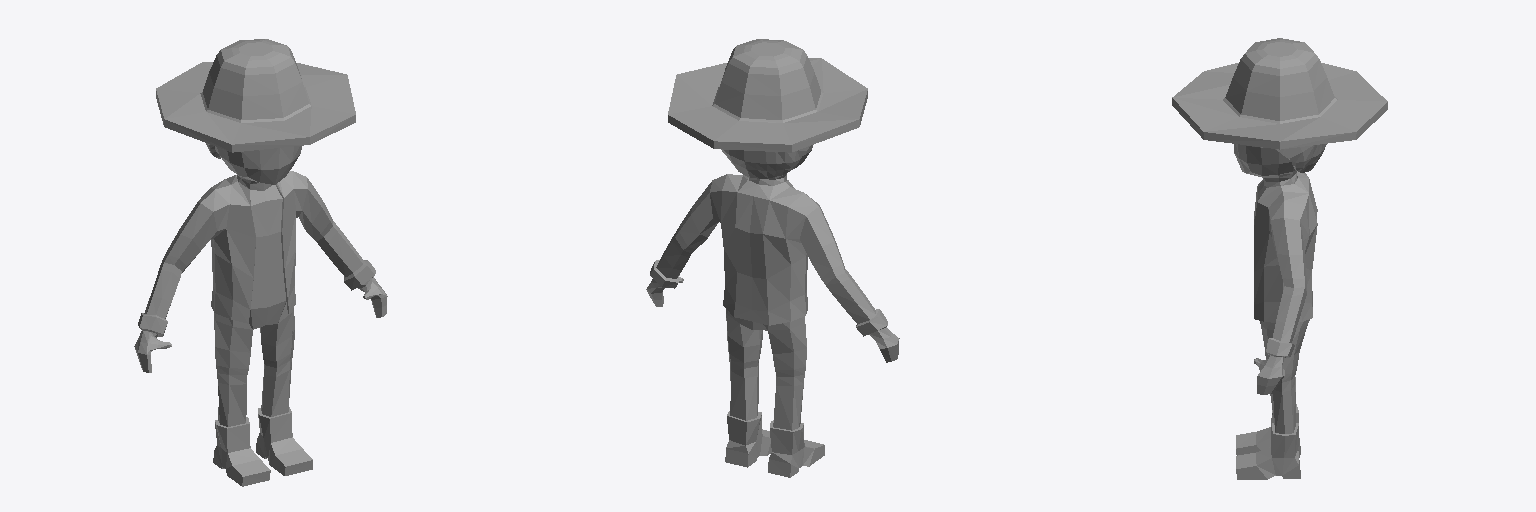
The model's file is character_creation.obj.
3 renders of one model, left to right at view 1: azimuth 30°, elevation 25°; view 2: azimuth 150°, elevation 25°; view 3: azimuth 270°, elevation 25°, orthographic.
Parts seen in each view (by area): view 1: Cube; view 2: Cube; view 3: Cube.
Part boxes in pixels (bbox=[...]): Cube: bbox=[134, 39, 387, 486]; Cube: bbox=[646, 39, 899, 477]; Cube: bbox=[1172, 38, 1387, 479].
Bounding box in the file's own units: 9.64 × 15.38 × 7.29.